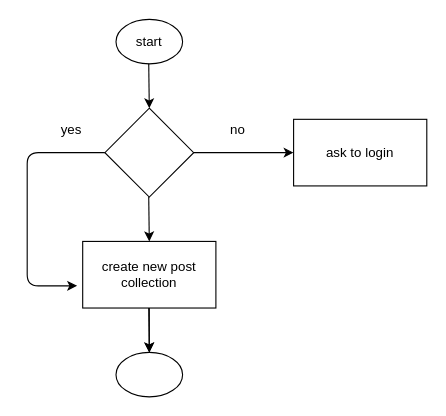
Some shapes in this 446 by 416 pixel diagram are drawn without their labels. Each missing label, with the centre of its shape:
"end" goes at pixel 149 374.
"isLogin" goes at pixel 149 152.
